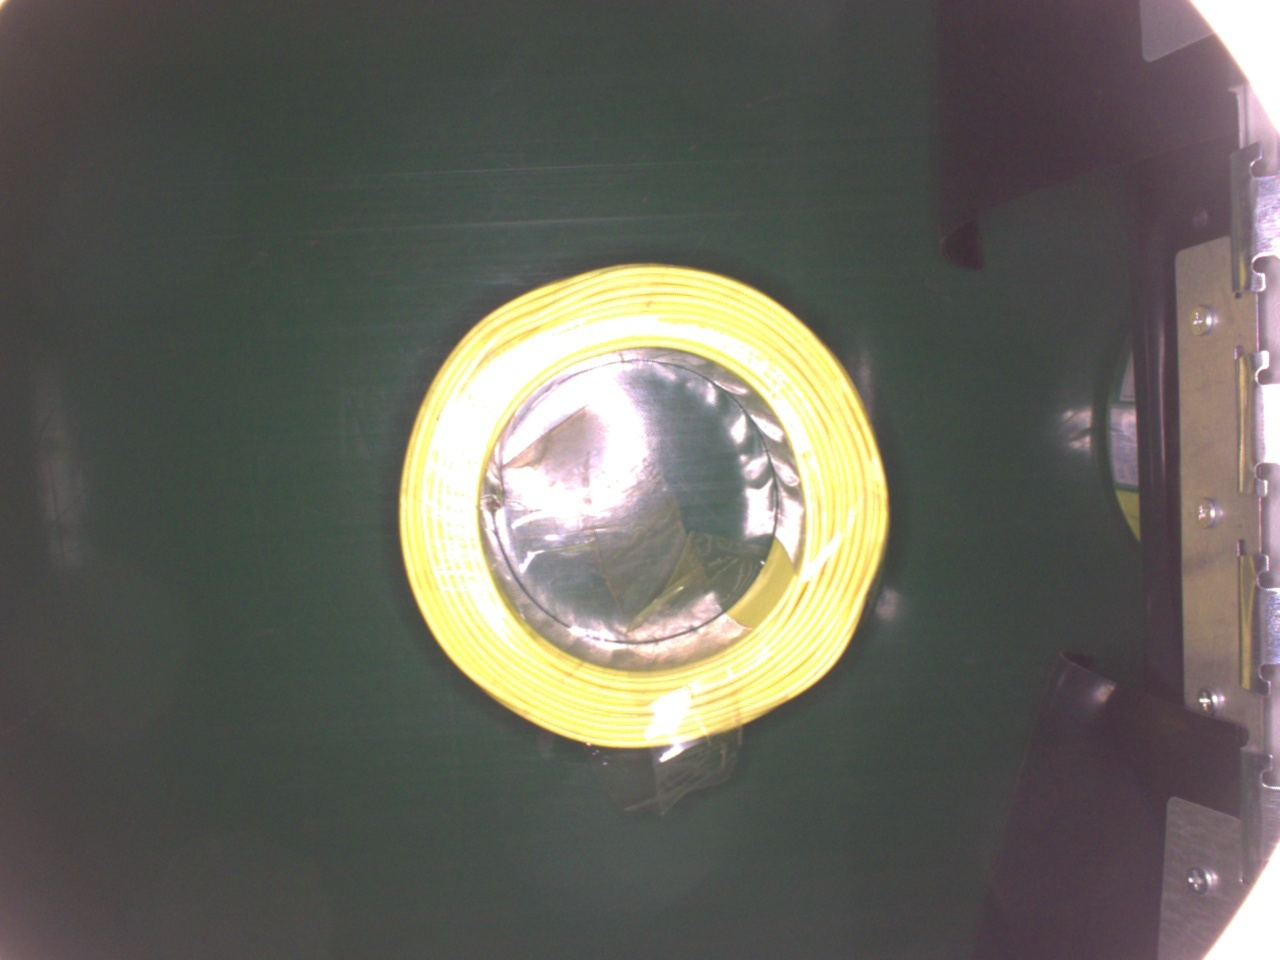yellow: (394, 260, 885, 751)
